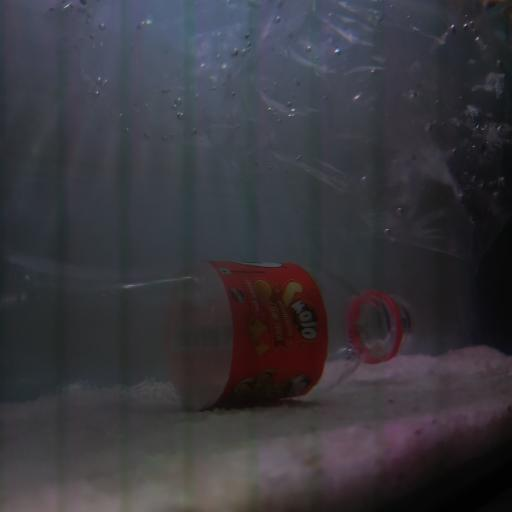plastic_bag: (1, 2, 512, 259)
plastic_bottle: (0, 262, 416, 409)
